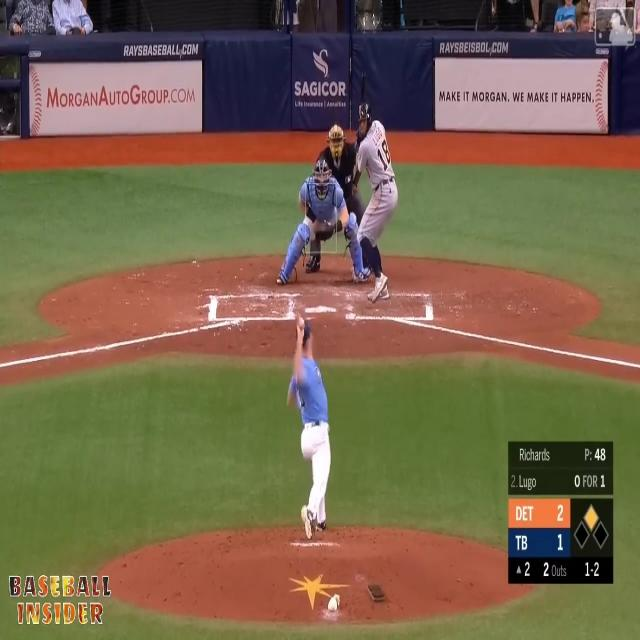baseball: (297, 313, 305, 330)
